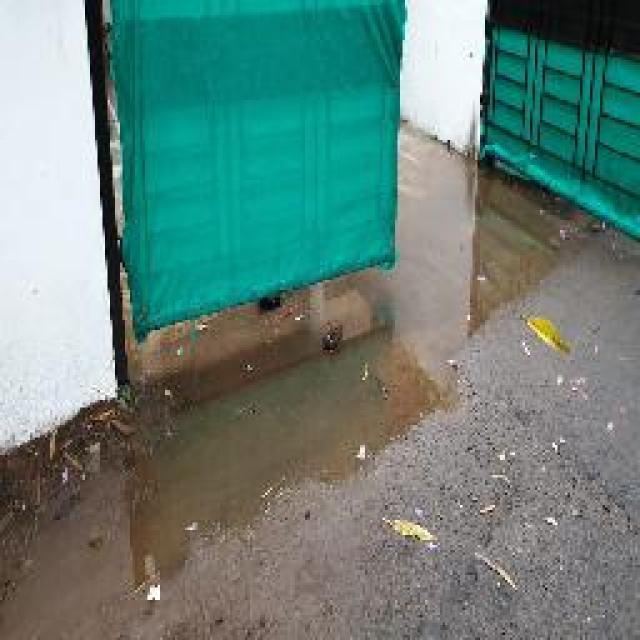stagnation: (181, 329, 493, 609)
